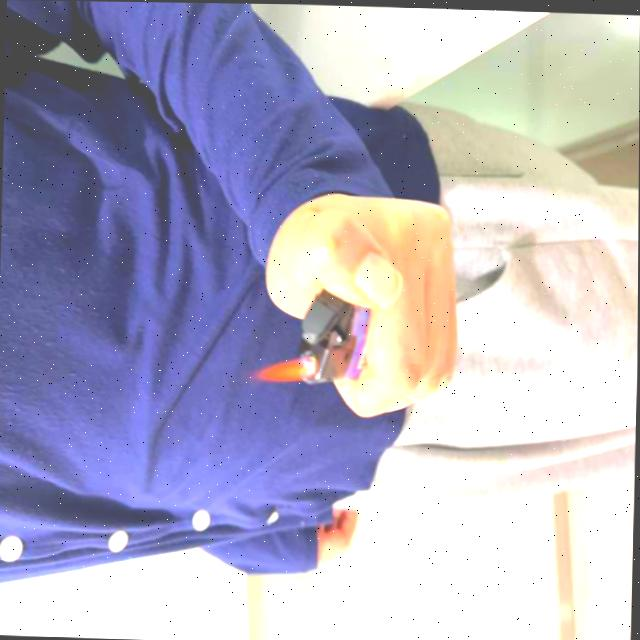Fire: (249, 356, 315, 382)
